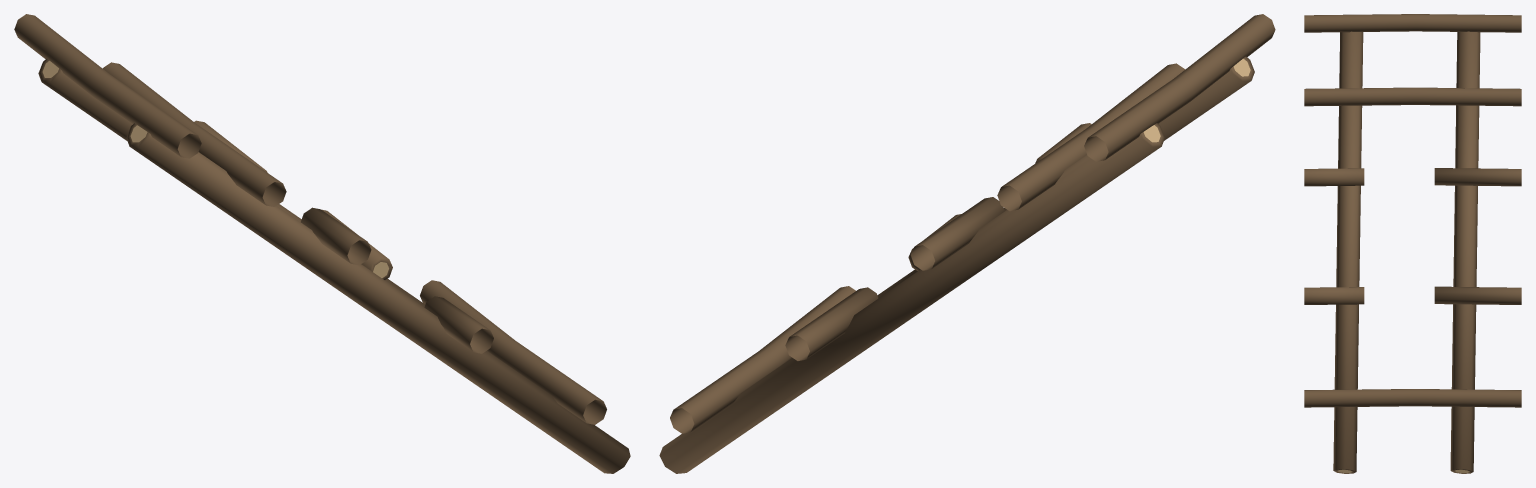
File: rpgpp_ag_roof_support_01_9x4x3_half_b_chimney_01.fbx
The picture shows the model from 3 angles, left to right: view 1: azimuth 30°, elevation 25°; view 2: azimuth 150°, elevation 25°; view 3: azimuth 270°, elevation 25°; orthographic projection. The views are drawn at different scales.
Parts seen in each view (by area): view 1: rpgpp_ag_roof_support_01_9x4x3_half_b_chimney_01; view 2: rpgpp_ag_roof_support_01_9x4x3_half_b_chimney_01; view 3: rpgpp_ag_roof_support_01_9x4x3_half_b_chimney_01.
Boxes of the visible parts, left/top/right/bottom form: rpgpp_ag_roof_support_01_9x4x3_half_b_chimney_01: left=14, top=14, right=630, bottom=473; rpgpp_ag_roof_support_01_9x4x3_half_b_chimney_01: left=659, top=14, right=1275, bottom=473; rpgpp_ag_roof_support_01_9x4x3_half_b_chimney_01: left=1304, top=14, right=1521, bottom=473.
Bounding box in the file's own units: 5.24 × 4.77 × 3.
